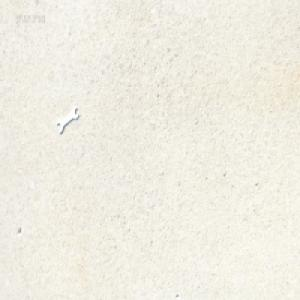Wrench: (56, 105, 79, 137)
